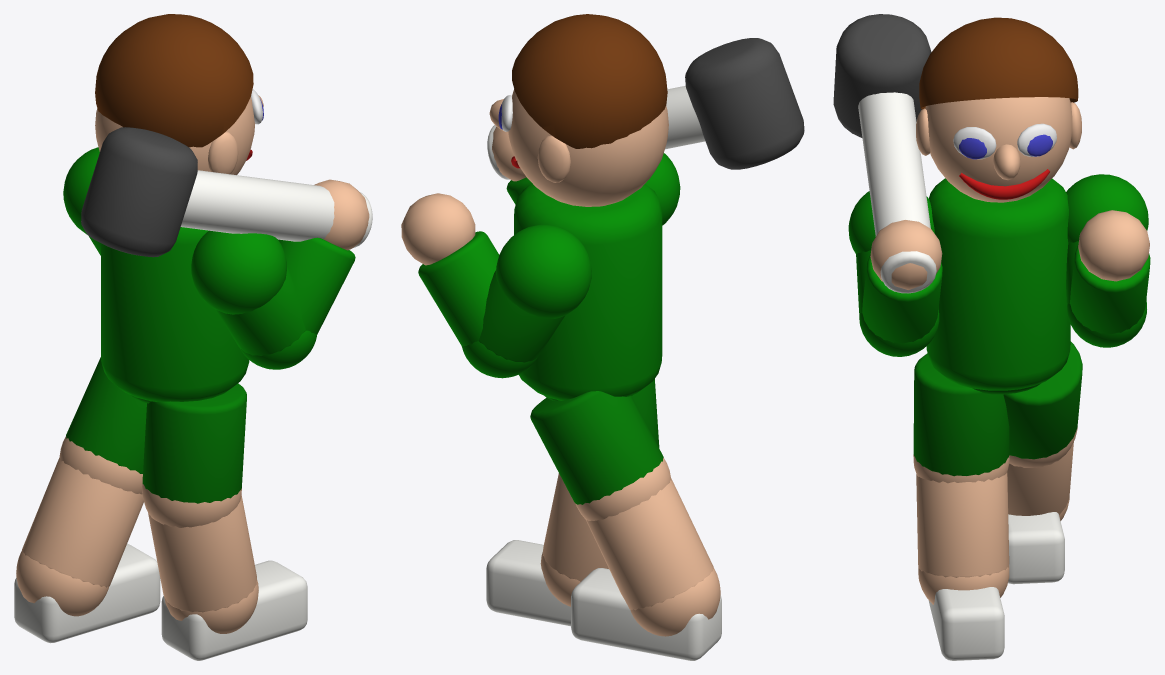
3 views of the same model, side by side, from view 1: azimuth 30°, elevation 25°; view 2: azimuth 150°, elevation 25°; view 3: azimuth 270°, elevation 25° (orthographic). The views are drawn at different scales.
Parts seen in each view (by area): view 1: torso, hair, mallet, thigh_f, shin_n, handle, shin_f, shoe_f, shoulder_ball_f, shoe_n, thigh_n, farm_f (+10 smaller); view 2: torso, hair, mallet, thigh_n, shin_n, head, shoulder_ball_n, shoe_n, farm_n, shoe_f, hand_n, uarm_n (+10 smaller); view 3: torso, hair, head, shin_f, thigh_f, handle, mallet, thigh_n, shoe_f, farm_n, farm_f, hand_n (+17 smaller).
Boxes of the visible parts, <box> form: torso: <box>101,227,249,401</box>; hair: <box>95,14,253,147</box>; mallet: <box>81,127,197,257</box>; thigh_f: <box>142,383,246,503</box>; shin_n: <box>22,458,143,587</box>; handle: <box>180,170,372,247</box>; shin_f: <box>148,495,256,612</box>; shoe_f: <box>161,560,307,660</box>; shoulder_ball_f: <box>191,230,286,314</box>; shoe_n: <box>14,543,160,643</box>; thigh_n: <box>66,357,146,473</box>; farm_f: <box>278,237,355,334</box>; torso: <box>514,183,662,400</box>; hair: <box>512,14,667,148</box>; mallet: <box>685,38,804,169</box>; thigh_n: <box>530,391,663,504</box>; shin_n: <box>586,478,713,610</box>; head: <box>508,89,668,206</box>; shoulder_ball_n: <box>496,224,591,318</box>; shoe_n: <box>571,568,721,660</box>; farm_n: <box>418,231,499,346</box>; shoe_f: <box>486,540,570,626</box>; hand_n: <box>401,193,475,265</box>; uarm_n: <box>479,270,564,362</box>; torso: <box>926,178,1070,390</box>; hair: <box>919,17,1078,109</box>; head: <box>925,97,1072,202</box>; shin_f: <box>916,473,1009,577</box>; thigh_f: <box>913,353,1009,476</box>; handle: <box>858,92,936,293</box>; mallet: <box>833,14,931,137</box>; thigh_n: <box>1003,341,1082,459</box>; shoe_f: <box>928,587,1004,660</box>; farm_n: <box>1070,245,1150,333</box>; farm_f: <box>862,254,942,343</box>; hand_n: <box>1078,210,1149,281</box>.
Size of the model in its own units: 0.8035 by 1.62 by 0.789.
